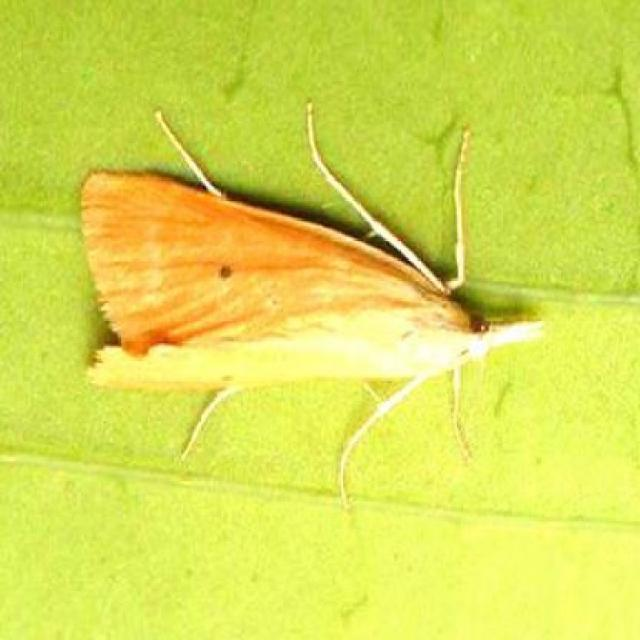stem-borer: (77, 152, 552, 465)
